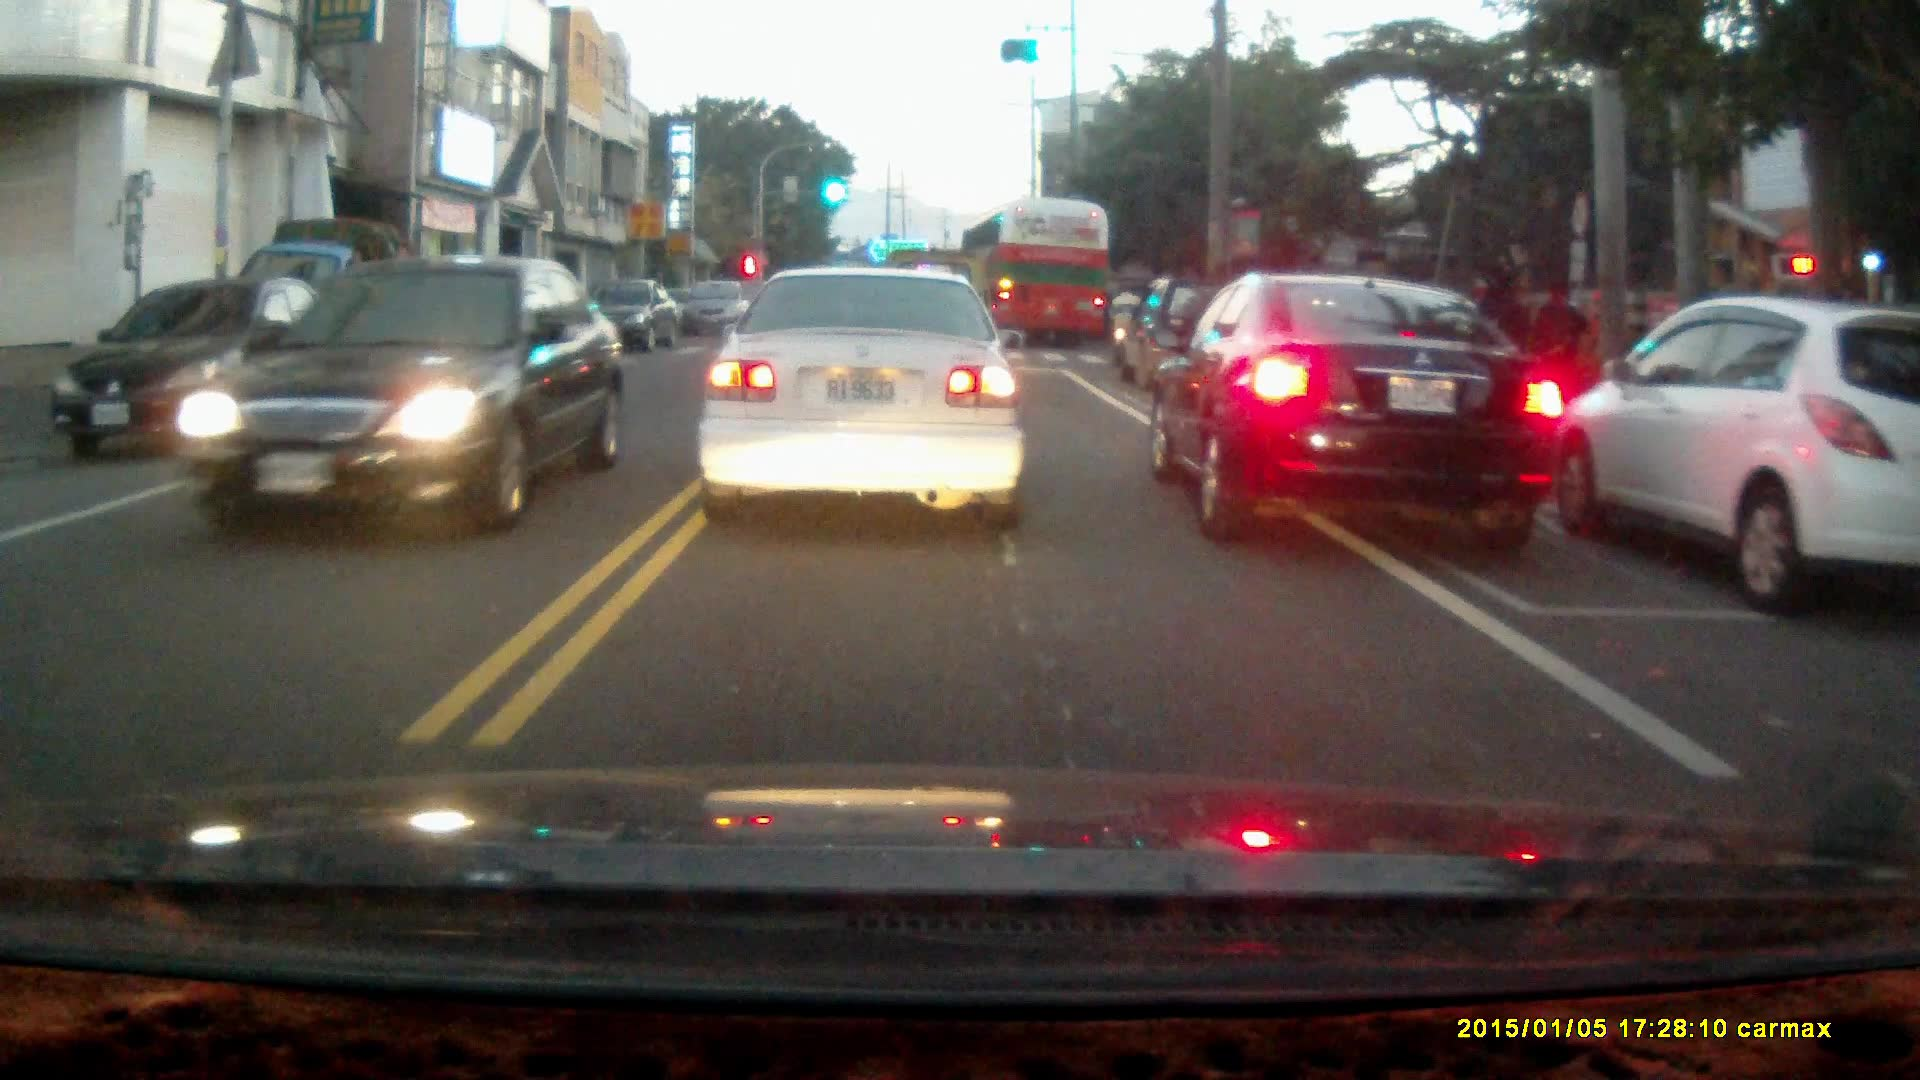pedestrian: (1530, 275, 1587, 413), (1476, 275, 1524, 411)
rider: (1106, 281, 1145, 361)
vehicle: (173, 255, 628, 539), (1537, 294, 1920, 621), (1149, 274, 1568, 548), (697, 263, 1028, 532), (55, 275, 364, 460), (221, 221, 450, 403), (962, 204, 1109, 354), (682, 281, 753, 340)
